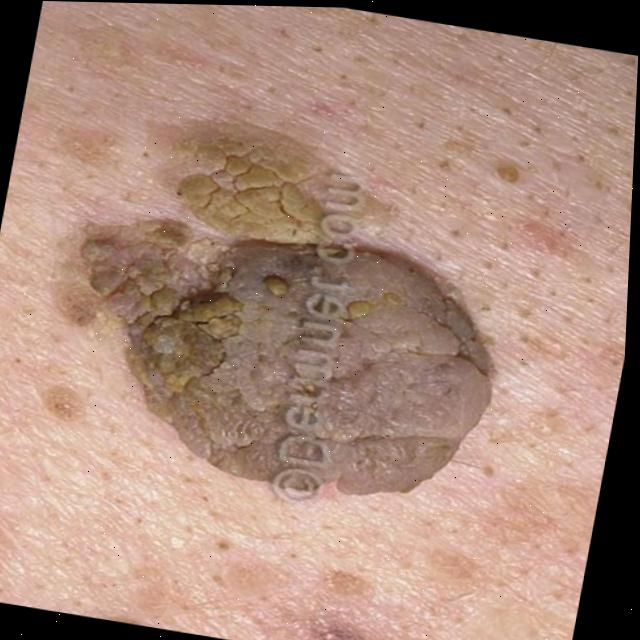Eczema: (48, 101, 514, 506)
